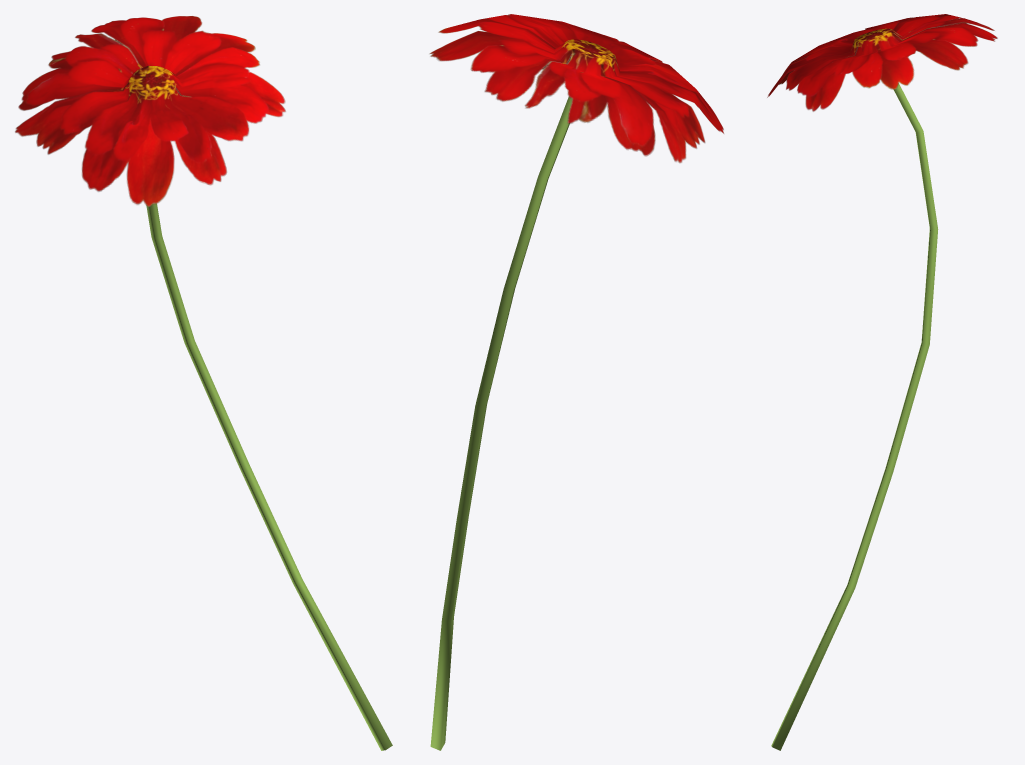
The model's file is flowers.glb.
3 renders of one model, left to right at view 1: azimuth 30°, elevation 25°; view 2: azimuth 150°, elevation 25°; view 3: azimuth 270°, elevation 25°, orthographic. The views are drawn at different scales.
Parts seen in each view (by area): view 1: fleur, tige; view 2: fleur, tige; view 3: fleur, tige.
Boxes of the visible parts, left/top/right/bottom form: fleur: left=15, top=16, right=285, bottom=206; tige: left=146, top=203, right=392, bottom=750; fleur: left=429, top=14, right=723, bottom=162; tige: left=430, top=96, right=572, bottom=750; fleur: left=767, top=14, right=997, bottom=111; tige: left=771, top=83, right=938, bottom=750.
Size of the model in its own units: 0.8568 by 1.92 by 0.673.
Materials: 2 (1 with a texture image).
